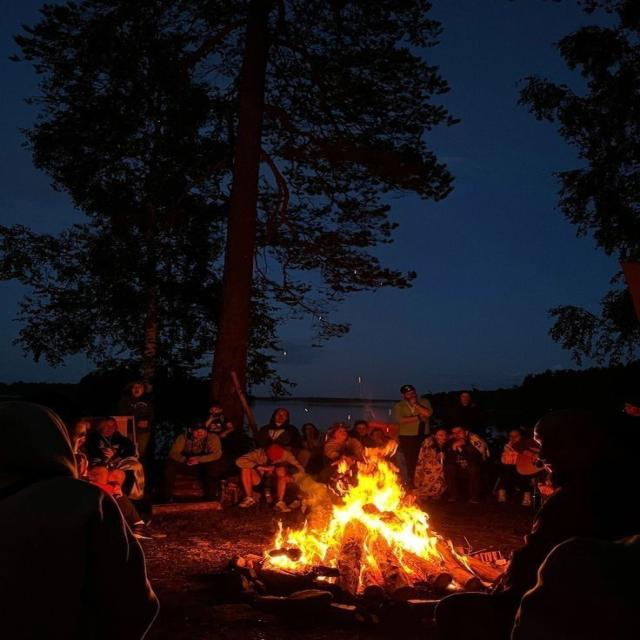fire: (329, 506, 439, 594), (329, 440, 406, 507), (263, 520, 329, 576), (437, 533, 483, 591)
